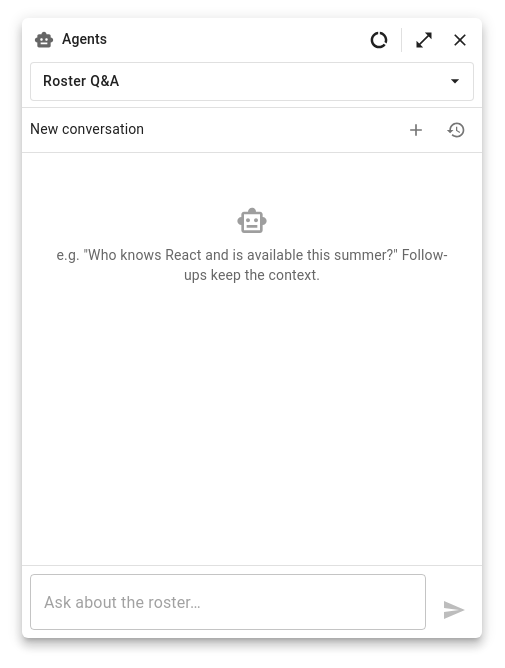
Scenario: Roster Q&A threading › notices an expired thread when the server returns a different id
Type "first question" into the text box with placeholder "Ask about the roster…".
click(228, 602); type("first question")  # box [44,590,412,614]
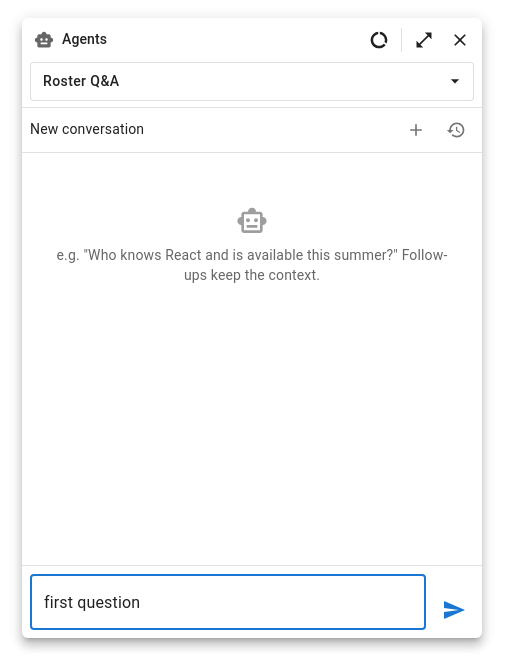
Click the button named "Send".
click(454, 610)  # box [434,590,474,630]
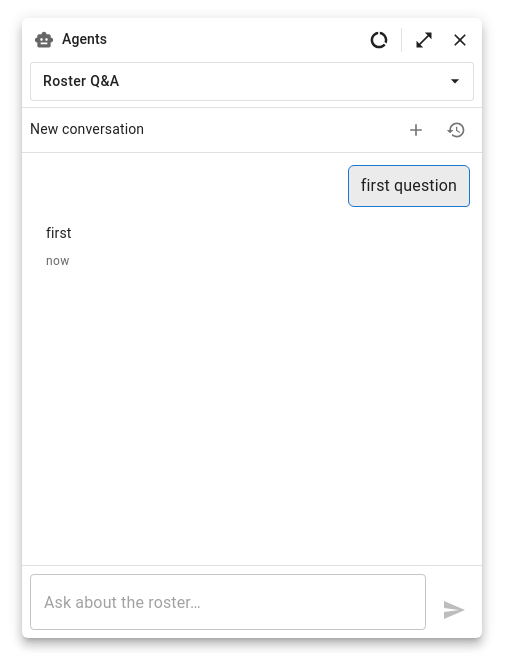
Now the text "first" is shown, box [46,222,72,244]
Type "follow-up" into the text box with placeholder "Ask about the roster…".
click(228, 602); type("follow-up")  # box [44,590,412,614]
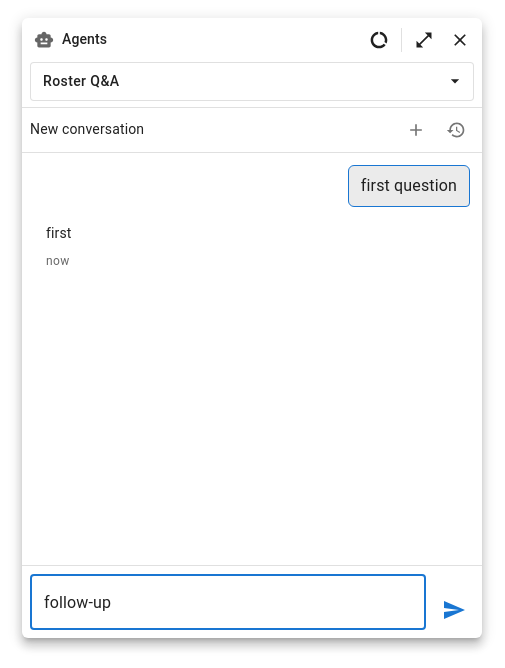
Click the button named "Send".
click(454, 610)  # box [434,590,474,630]
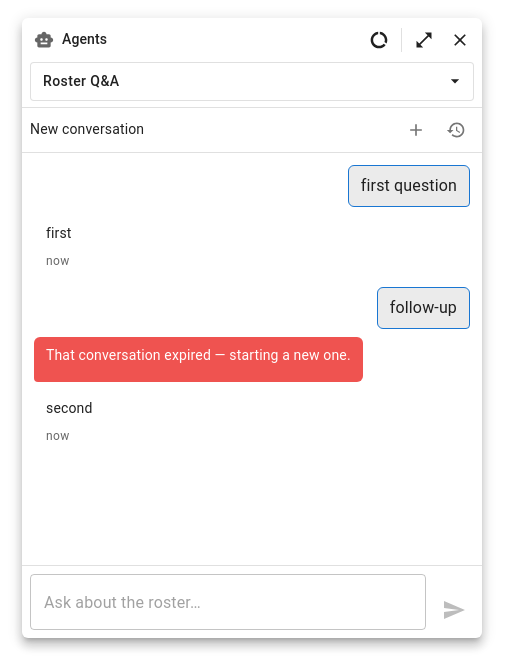
Now the text "That conversation expired — starting a new one." is shown, box [46,345,351,366]
Now the text "second" is shown, box [46,398,92,419]
